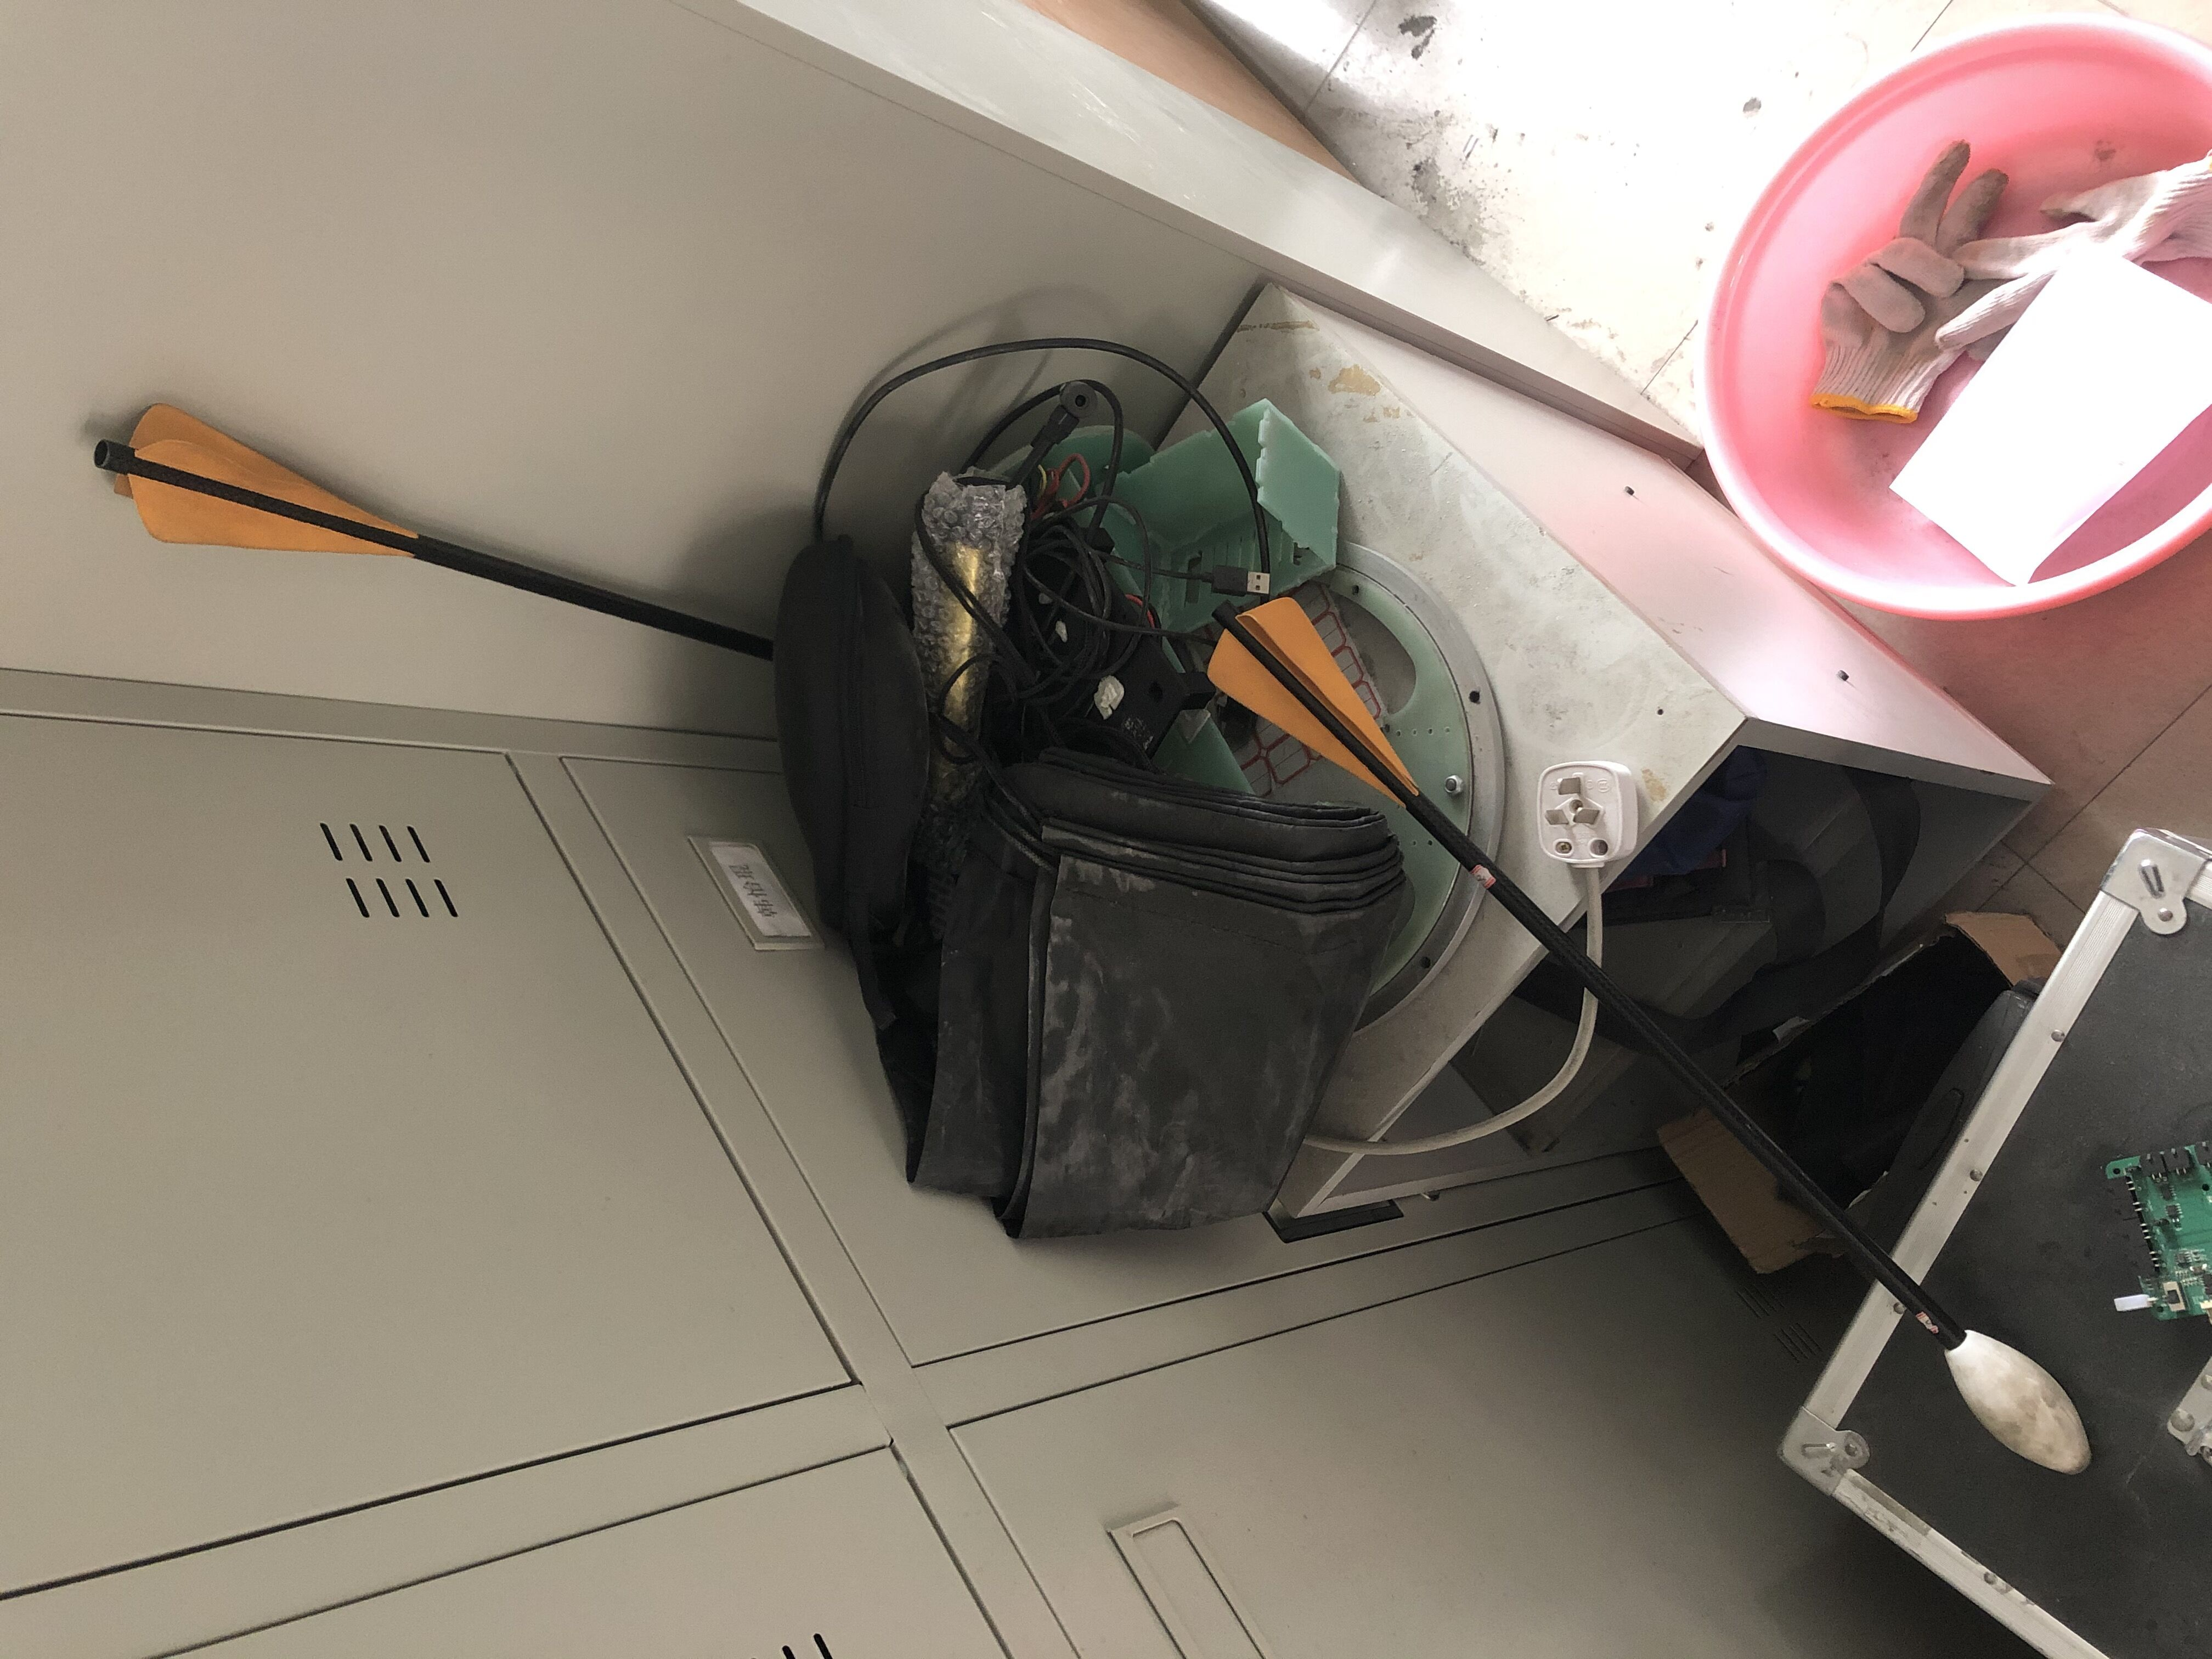arrow: (1205, 598, 2090, 1474), (94, 399, 779, 664)
arrowFront: (1935, 1328, 2088, 1473)
